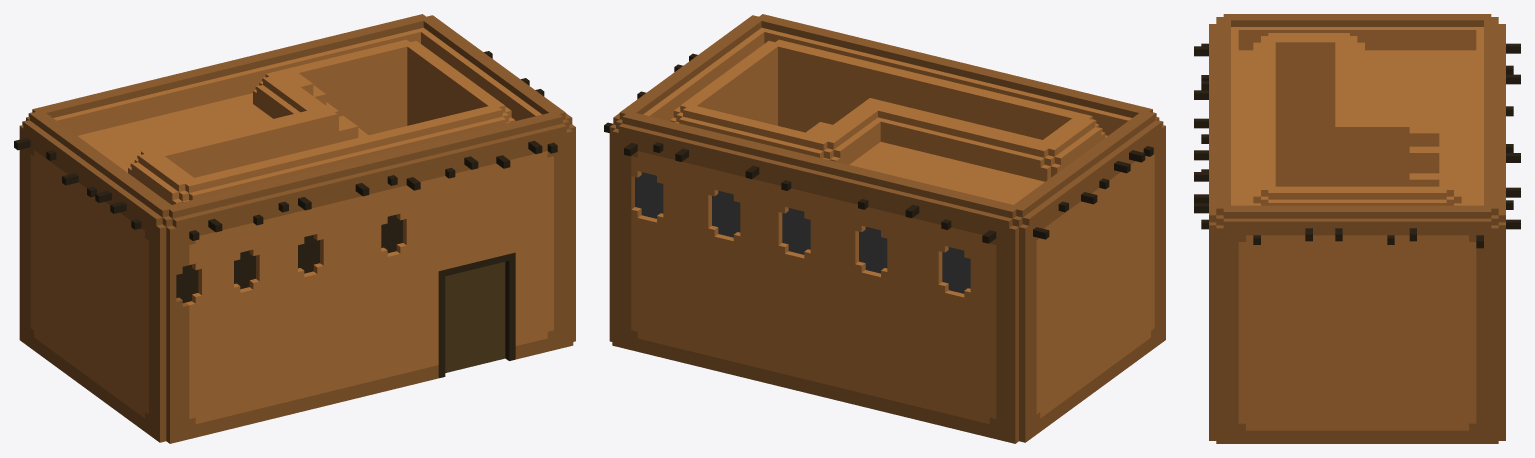
Rendered from fixed_house4.obj.
The picture shows the model from 3 angles, left to right: view 1: azimuth 30°, elevation 25°; view 2: azimuth 150°, elevation 25°; view 3: azimuth 270°, elevation 25°; orthographic projection.
Size of the model in its own units: 6.9 by 3.4 by 4.4.
Materials: 1 (1 with a texture image).
